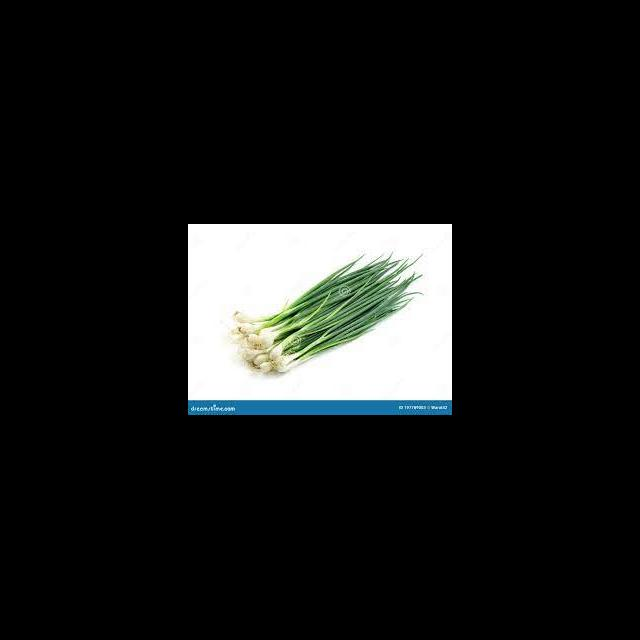green_onion: (226, 262, 421, 374)
